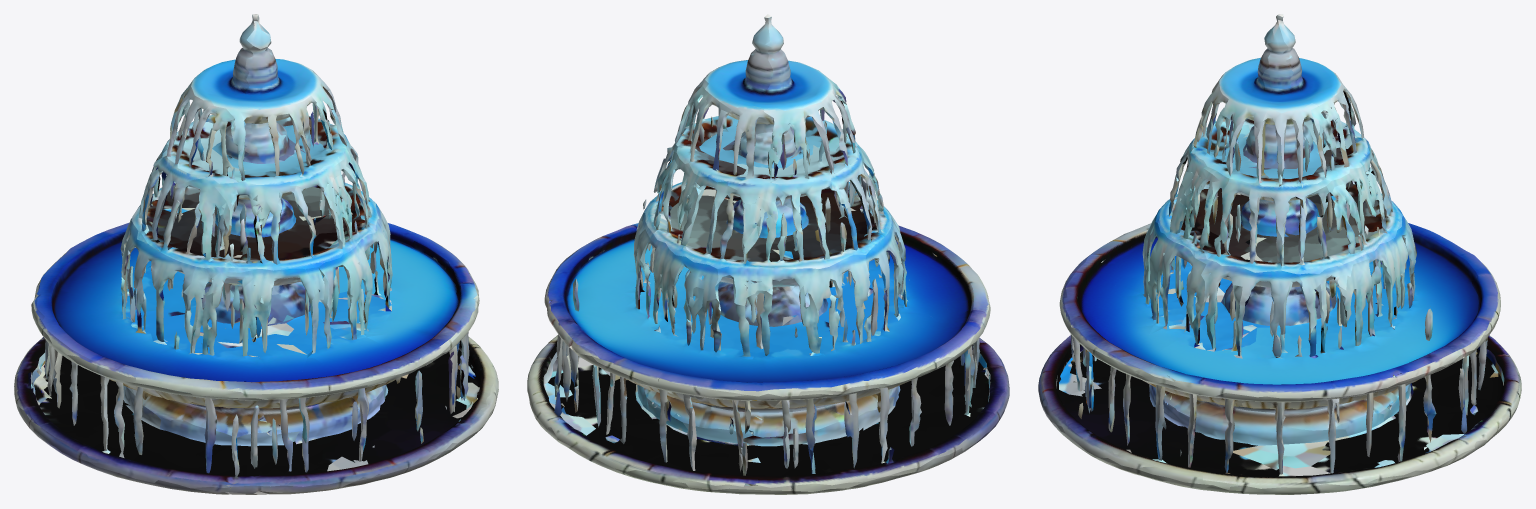
File: water_fountain.fbx
3 views of the same model, side by side, from view 1: azimuth 30°, elevation 25°; view 2: azimuth 150°, elevation 25°; view 3: azimuth 270°, elevation 25° (orthographic).
Visible parts, largest first — view 1: tmps2zm76pr.ply; view 2: tmps2zm76pr.ply; view 3: tmps2zm76pr.ply.
Part boxes in pixels (x1,y1,x2,y2): tmps2zm76pr.ply: [14, 14, 498, 494]; tmps2zm76pr.ply: [527, 14, 1009, 494]; tmps2zm76pr.ply: [1038, 14, 1521, 494].
Size of the model in its own units: 199 by 174 by 199.
1 material, 1 textured.
